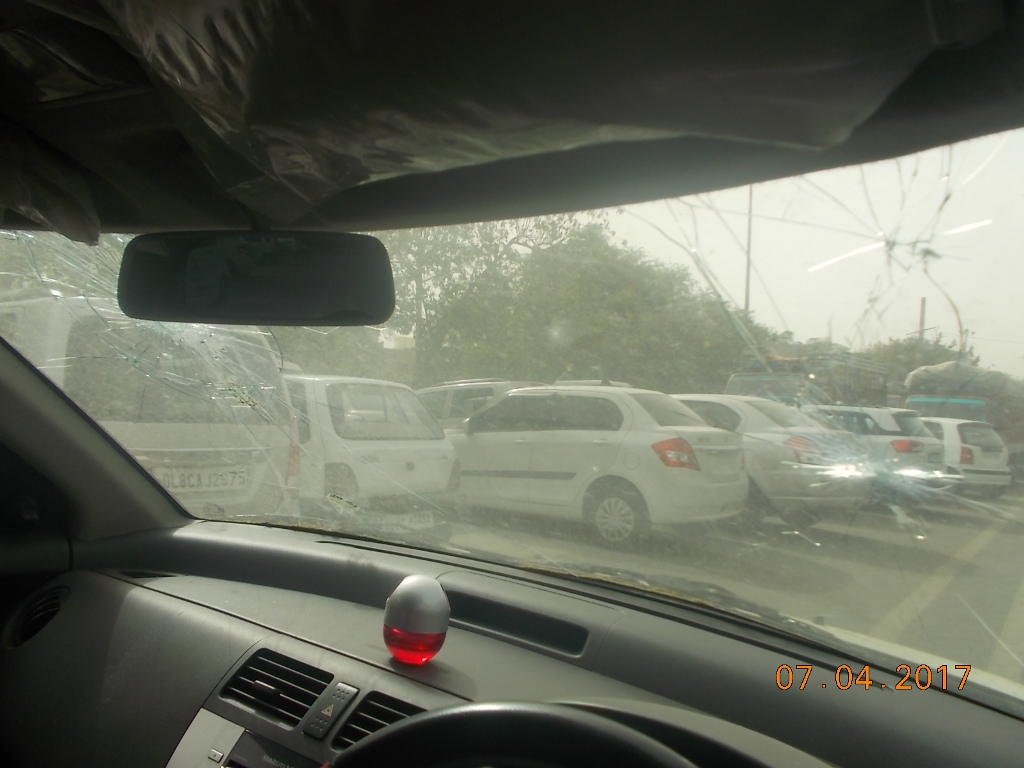Shatter: (829, 176, 976, 348)
